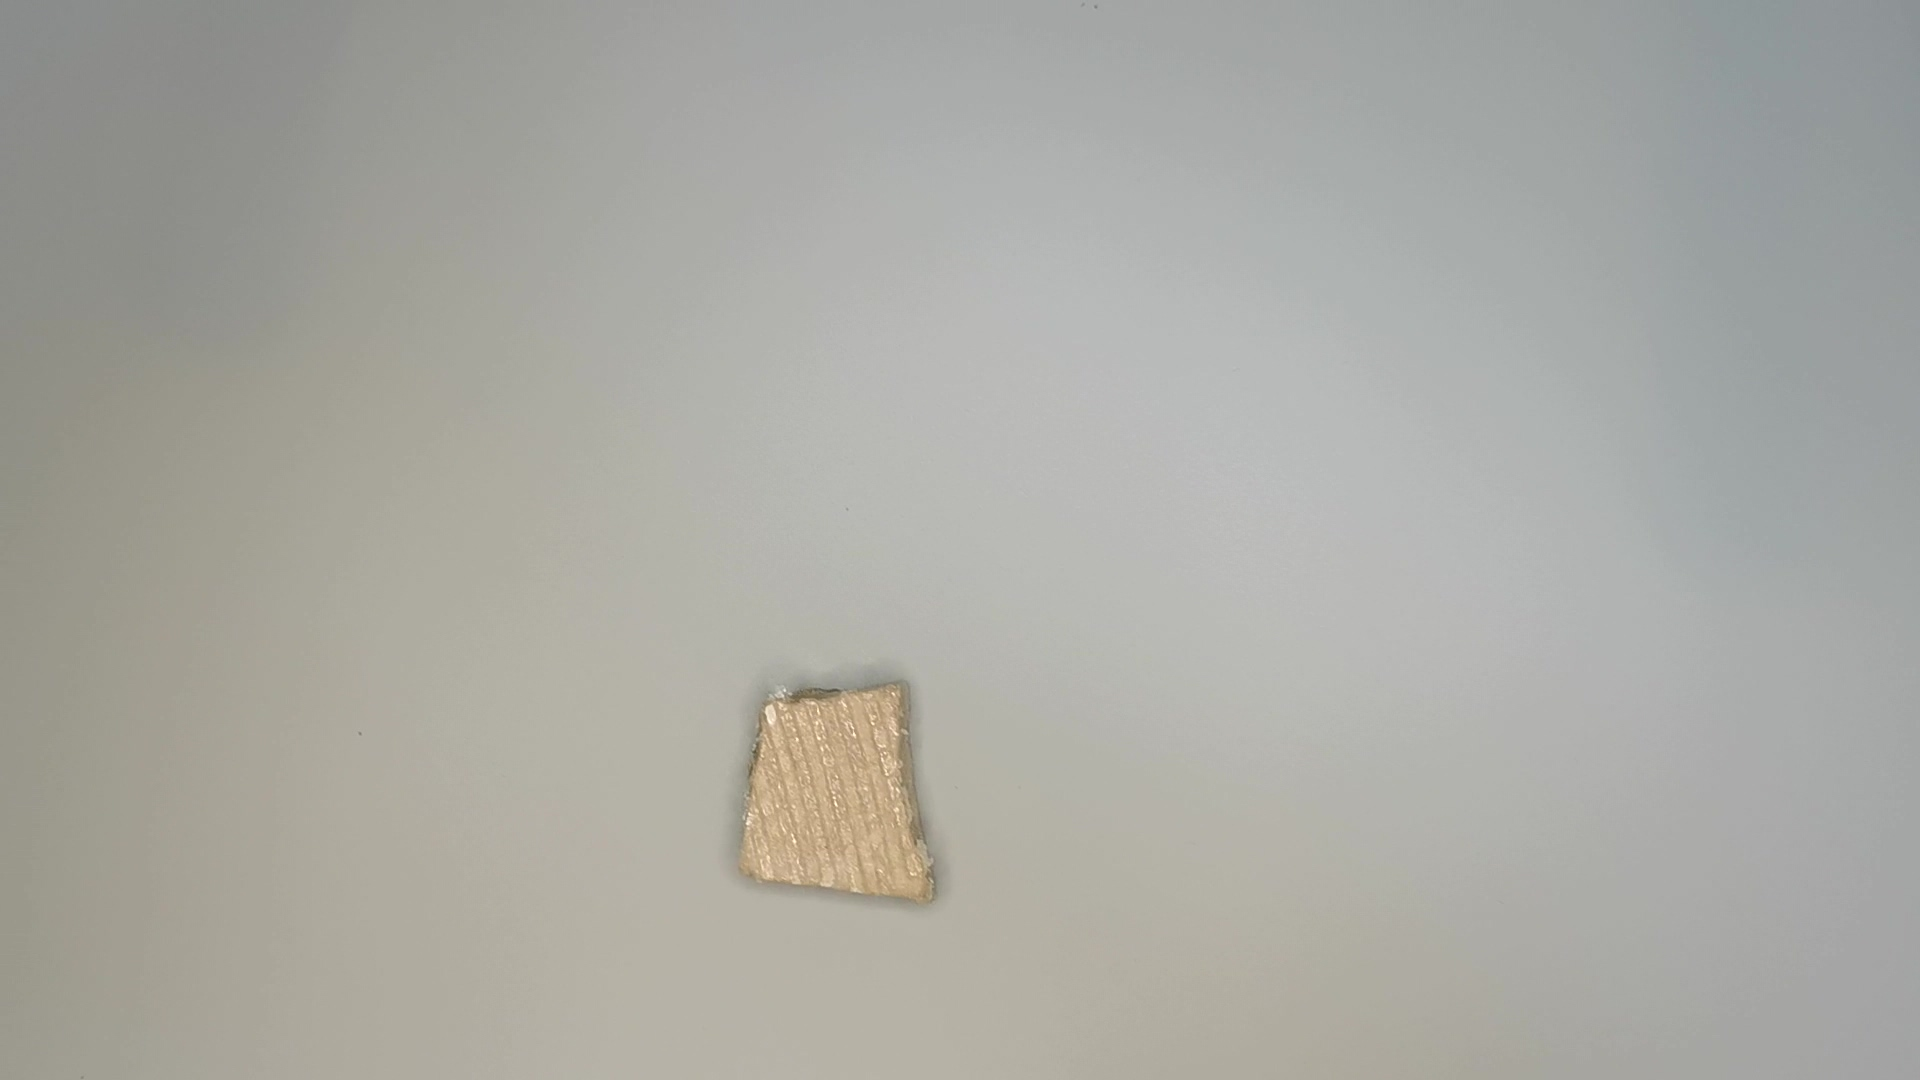ceramic: (723, 674, 938, 906)
